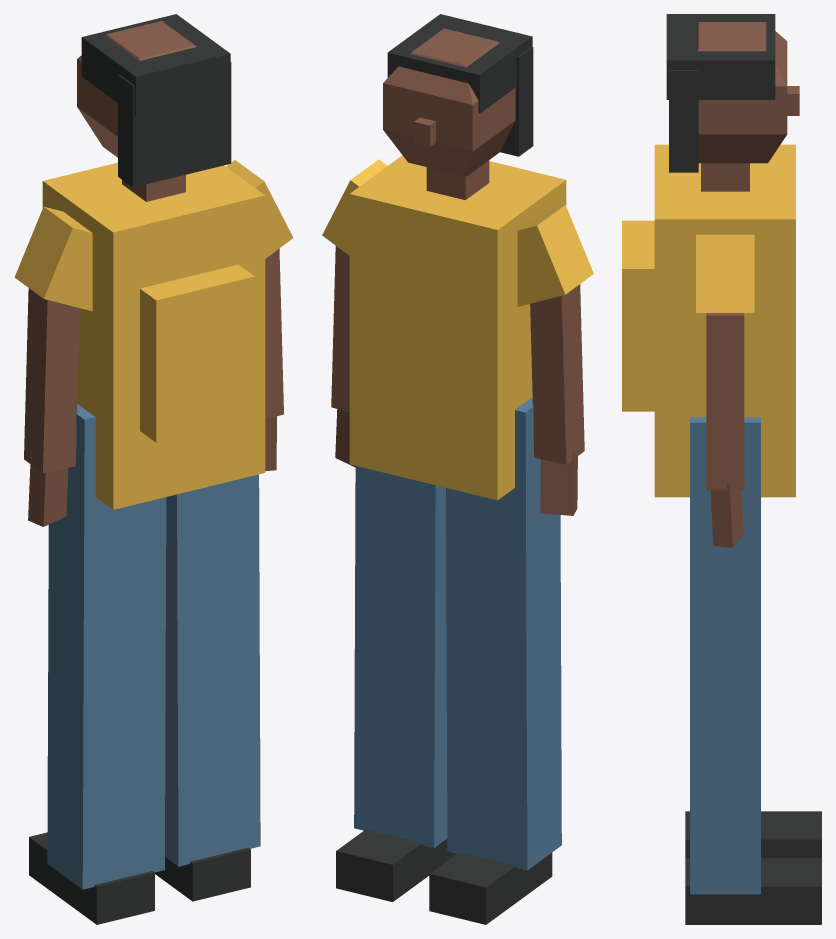
Rendered from pedestrian_02.glb.
3 renders of one model, left to right at view 1: azimuth 30°, elevation 25°; view 2: azimuth 150°, elevation 25°; view 3: azimuth 270°, elevation 25°, orthographic. The views are drawn at different scales.
Visible parts, largest first — view 1: pedestrian_02 crowd_trousers, pedestrian_02 crowd_shirt, pedestrian_02 crowd_rubber, pedestrian_02 crowd_skin, Backpack; view 2: pedestrian_02 crowd_trousers, pedestrian_02 crowd_shirt, pedestrian_02 crowd_skin, pedestrian_02 crowd_rubber; view 3: pedestrian_02 crowd_shirt, pedestrian_02 crowd_trousers, pedestrian_02 crowd_rubber, pedestrian_02 crowd_skin, Backpack.
Part boxes in pixels (left/top/right/bottom): pedestrian_02 crowd_trousers: left=47, top=404, right=260, bottom=889; pedestrian_02 crowd_shirt: left=14, top=160, right=293, bottom=509; pedestrian_02 crowd_rubber: left=29, top=14, right=250, bottom=924; pedestrian_02 crowd_skin: left=24, top=21, right=283, bottom=526; Backpack: left=140, top=264, right=254, bottom=442; pedestrian_02 crowd_trousers: left=354, top=397, right=561, bottom=870; pedestrian_02 crowd_shirt: left=322, top=155, right=593, bottom=500; pedestrian_02 crowd_skin: left=331, top=28, right=584, bottom=515; pedestrian_02 crowd_rubber: left=336, top=14, right=552, bottom=924; pedestrian_02 crowd_shirt: left=654, top=144, right=795, bottom=497; pedestrian_02 crowd_trousers: left=690, top=417, right=760, bottom=894; pedestrian_02 crowd_rubber: left=666, top=14, right=821, bottom=924; pedestrian_02 crowd_skin: left=697, top=22, right=799, bottom=547; Backpack: left=622, top=220, right=654, bottom=411.
Bounding box in the file's own units: 0.527 × 1.71 × 0.3638.
